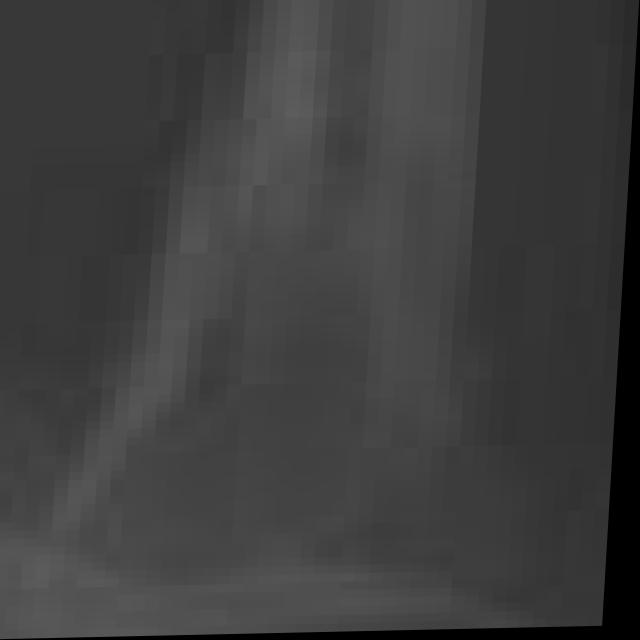fracture: (18, 0, 607, 629)
